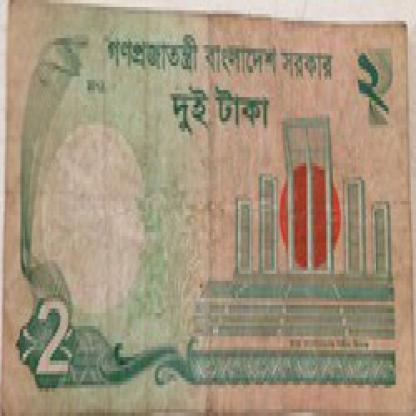two taka: (166, 76, 280, 156), (18, 294, 84, 406)
